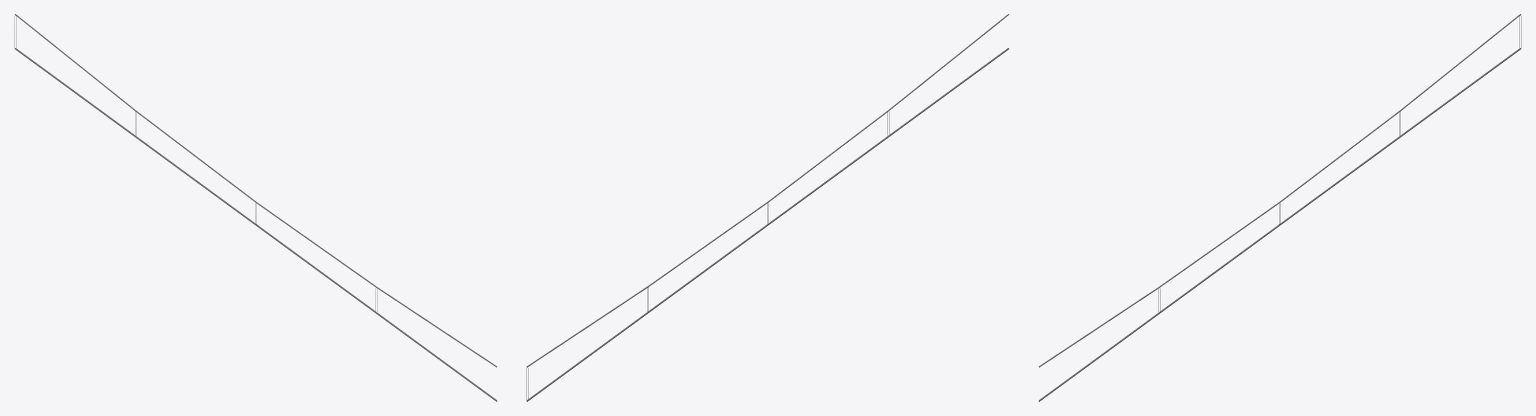
Rendered from SINGLE_KASEN_50.glb.
3 renders of one model, left to right at view 1: azimuth 30°, elevation 25°; view 2: azimuth 150°, elevation 25°; view 3: azimuth 330°, elevation 25°, orthographic.
Parts seen in each view (by area): view 1: Line2; view 2: Line2; view 3: Line2.
Boxes of the visible parts, box(x1,y1,x2,y2) form: Line2: box(14, 14, 497, 401); Line2: box(526, 14, 1009, 401); Line2: box(1038, 14, 1521, 401).
Bounding box in the file's own units: 0.11 × 2.03 × 50.
2 materials, 1 textured.
